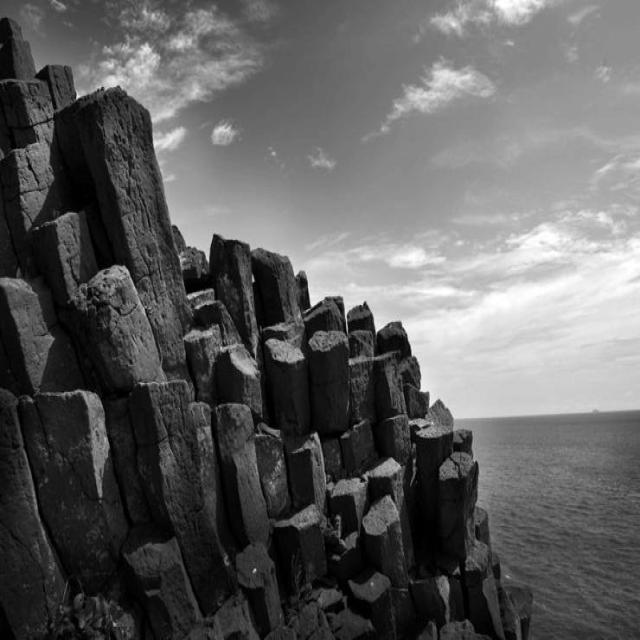reef: (300, 279, 549, 612)
